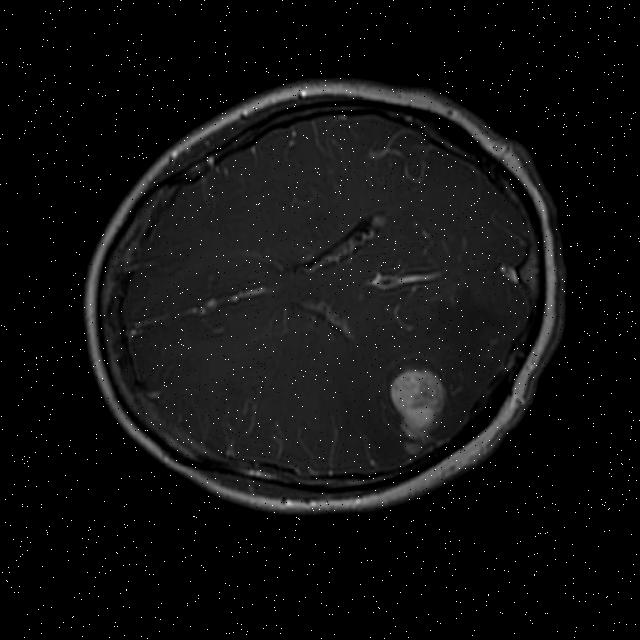Glioma: (388, 366, 448, 455)
